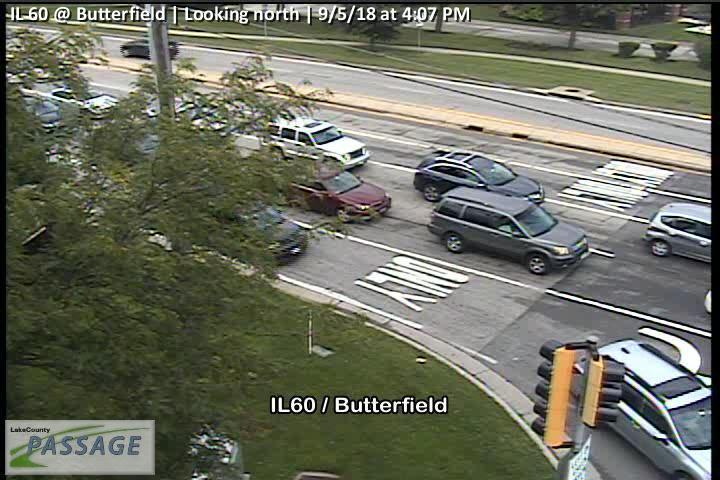SUV: (593, 338, 714, 480), (427, 186, 588, 276), (413, 150, 544, 202), (263, 117, 370, 172)
Sedan: (285, 164, 392, 223)
